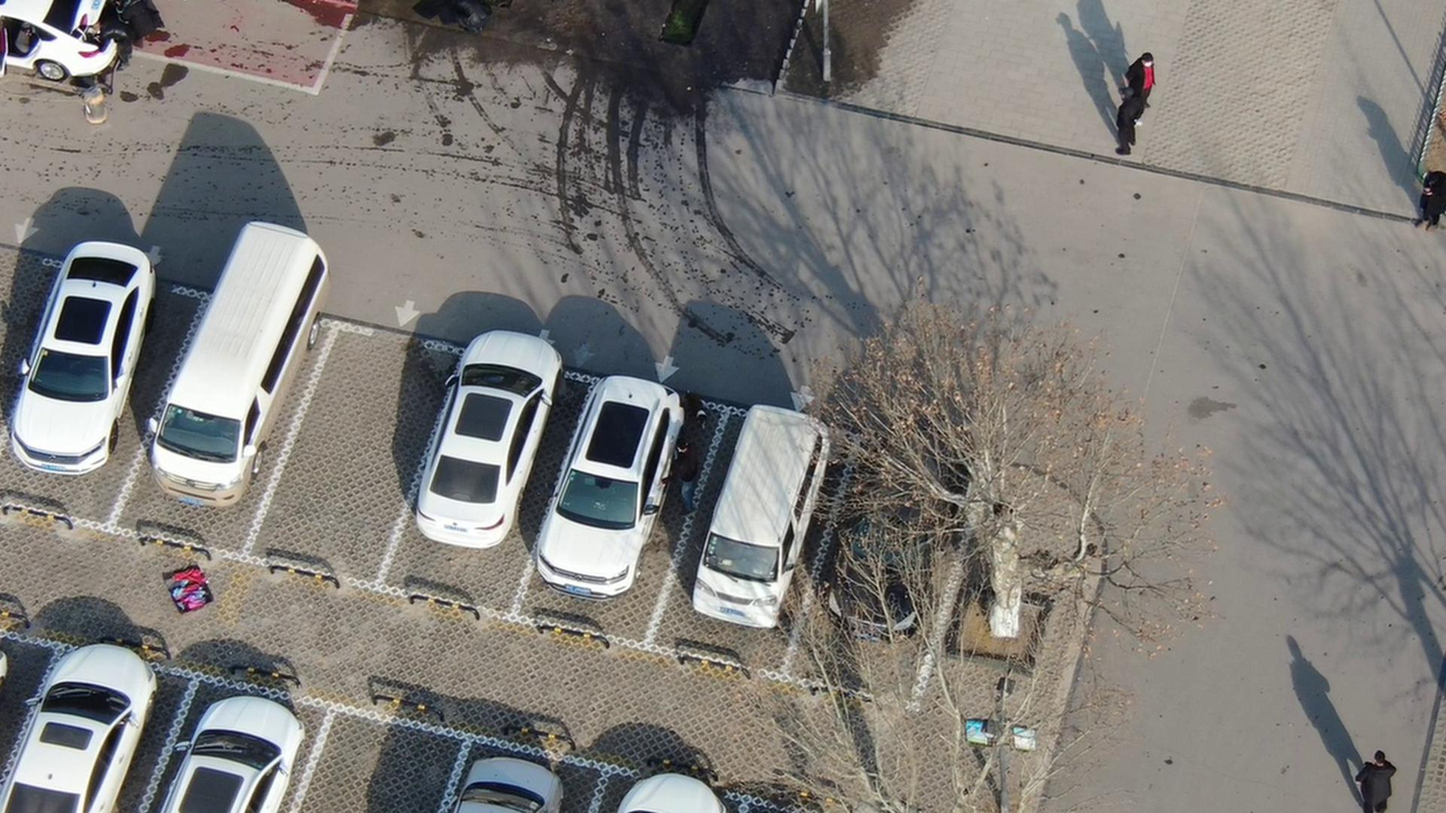class_2: (1109, 55, 1156, 163)
human: (1396, 163, 1446, 241), (1350, 744, 1400, 813), (661, 436, 700, 523), (103, 12, 146, 69), (445, 1, 494, 32)
